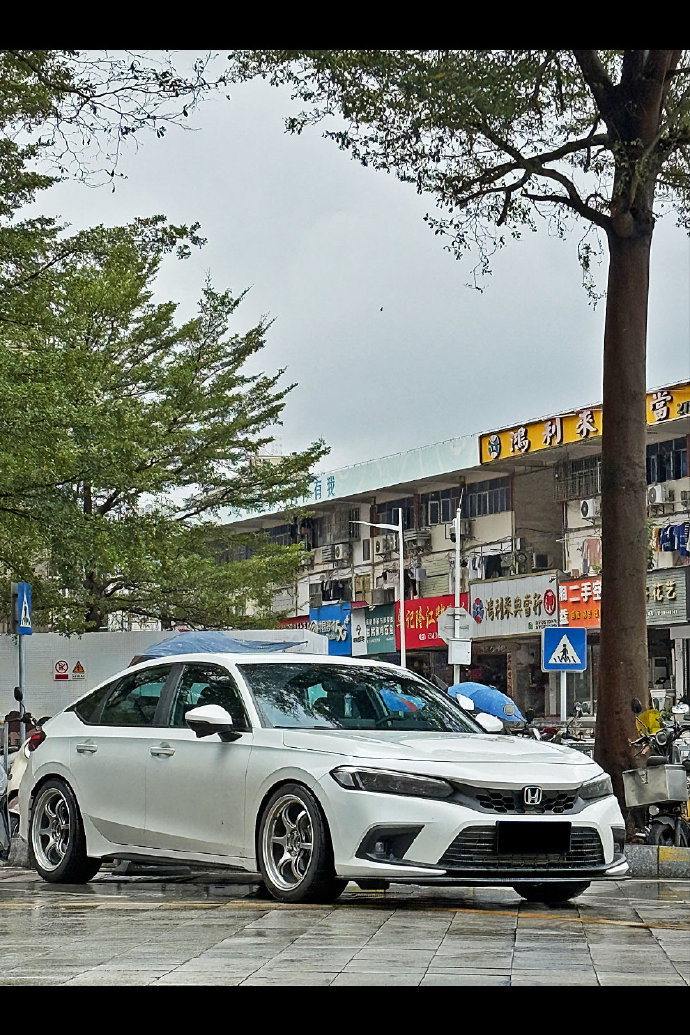other: (19, 653, 627, 901)
